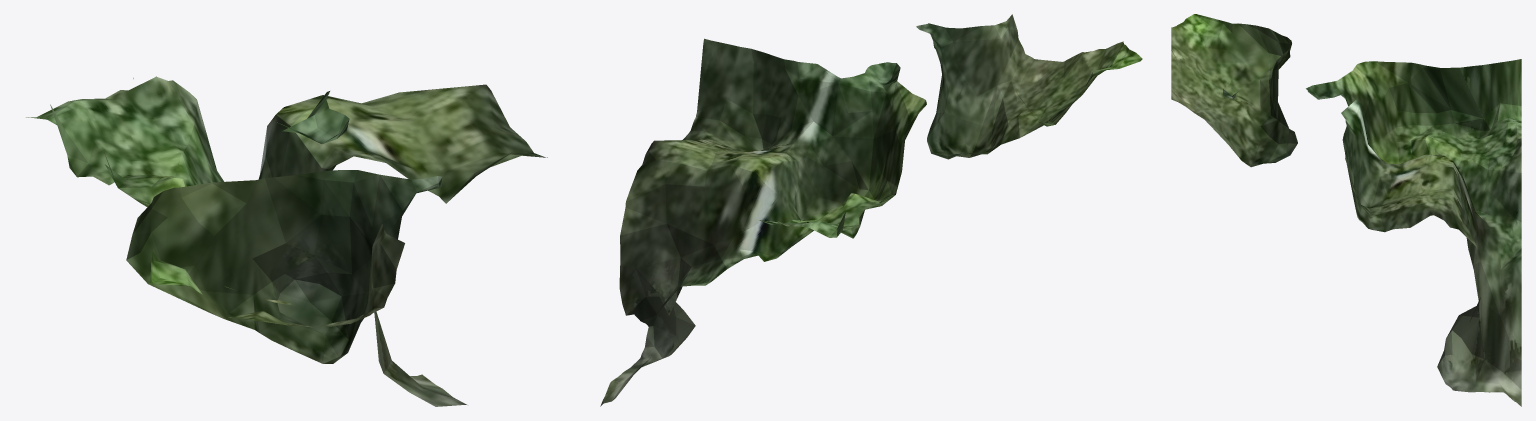
3 views of the same model, side by side, from view 1: azimuth 30°, elevation 25°; view 2: azimuth 150°, elevation 25°; view 3: azimuth 270°, elevation 25° (orthographic). The views are drawn at different scales.
Bounding box in the file's own units: 2.89 × 2.3 × 2.95.
2 materials, 2 textured.
